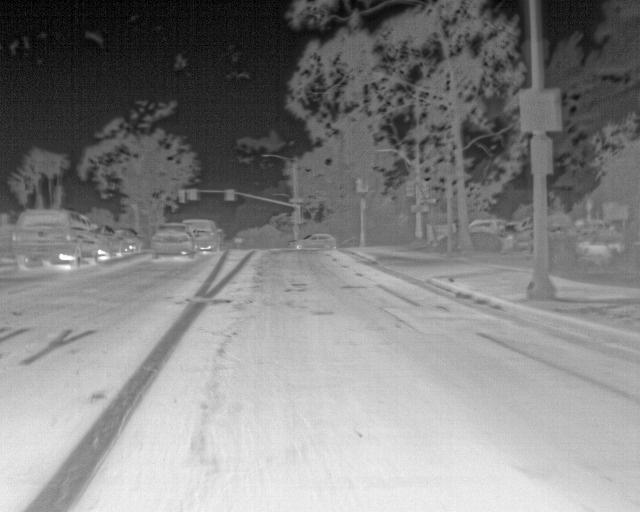car: (12, 206, 98, 272), (150, 224, 192, 257), (182, 216, 219, 253), (91, 223, 121, 259), (284, 232, 335, 252), (117, 228, 145, 252), (469, 217, 505, 232), (498, 222, 515, 243)
